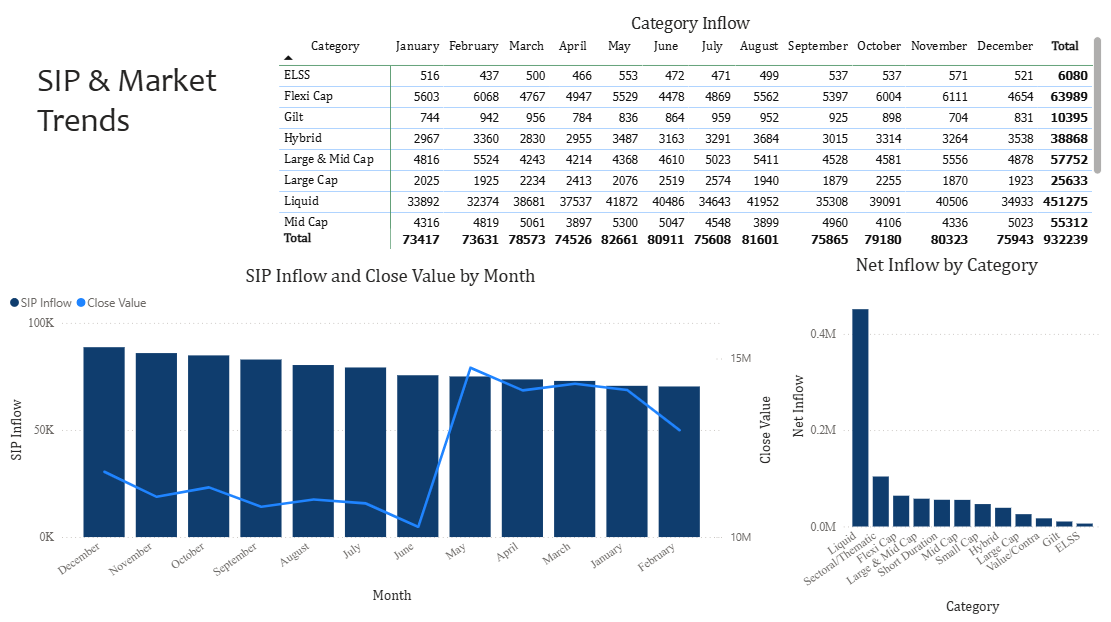

The page's visual inventory and layout, read from the dashboard file:
{"tool":"powerbi","page":{"name":"SIP & Market Trends","canvas":[1280,720],"ordinal":3},"visuals":[{"type":"lineClusteredColumnComboChart","fields":{"Y":["Sum(monthly_sip_inflows_cleaned.sip_inflow_crore)"],"Y2":["Sum(benchmark_indices_cleaned.close_value)"],"Category":["benchmark_indices_cleaned.bench_month"]},"box":[11,308.7,881,389.7],"z":0},{"type":"pivotTable","title":"Category Inflow","fields":{"Rows":["category_inflows_cleaned.category"],"Columns":["category_inflows_cleaned.month.Variation.Date Hierarchy.Month"],"Values":["Sum(category_inflows_cleaned.net_inflow_crore)"]},"box":[319.7,22,949.6,273.1],"z":1000},{"type":"columnChart","fields":{"Category":["category_inflows_cleaned.category"],"Y":["Sum(category_inflows_cleaned.net_inflow_crore)"]},"box":[905.7,295,363.6,415.8],"z":2000},{"type":"textbox","box":[42.5,68.6,233.3,109.8],"z":2001}]}

Visuals, with their boxes in screenshot pixels (x1, y1, x2, y2), scaled from the page's 1280x720 canvas onto the 1111x622 screenshot:
lineClusteredColumnComboChart - Sum(monthly_sip_inflows_cleaned.sip_inflow_crore) x Sum(benchmark_indices_cleaned.close_value): detection(10, 267, 774, 603)
"Category Inflow" pivotTable: detection(277, 19, 1102, 255)
columnChart - category_inflows_cleaned.category x Sum(category_inflows_cleaned.net_inflow_crore): detection(786, 255, 1102, 614)
textbox: detection(37, 59, 239, 154)
